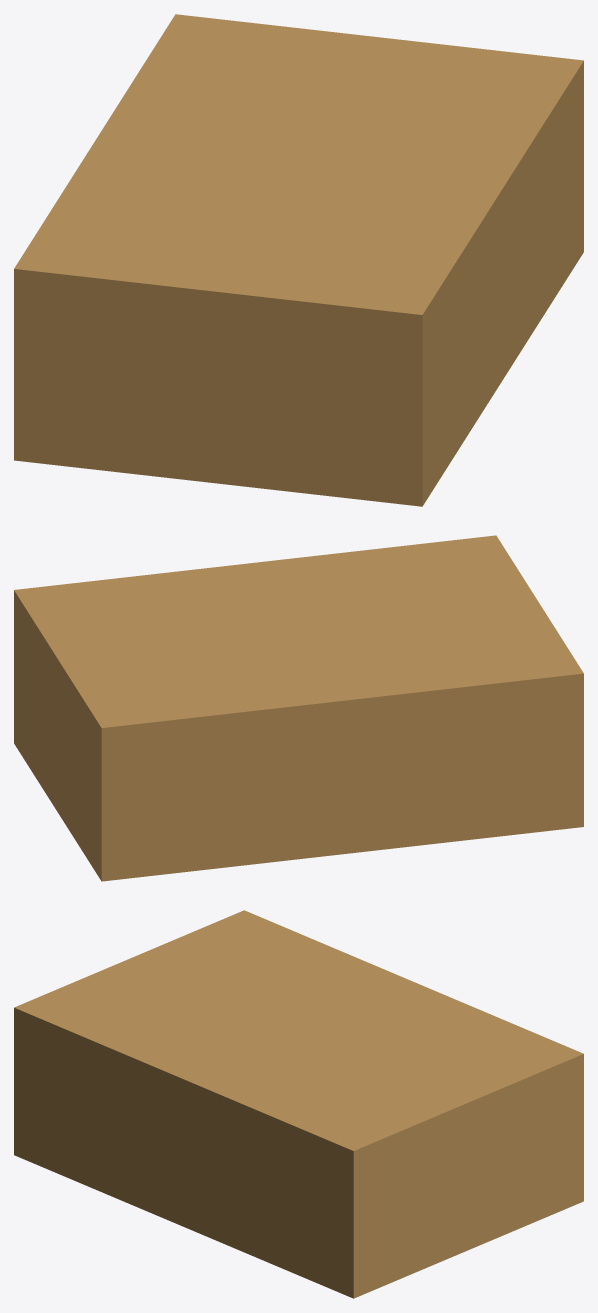
The picture shows the model from 3 angles, top to bottom: view 1: azimuth 30°, elevation 25°; view 2: azimuth 150°, elevation 25°; view 3: azimuth 270°, elevation 25°; orthographic projection. The views are drawn at different scales.
Parts seen in each view (by area): view 1: RUN-019-S01-NOG-00; view 2: RUN-019-S01-NOG-00; view 3: RUN-019-S01-NOG-00.
Boxes of the visible parts, x1,y1,x2,y2 form: RUN-019-S01-NOG-00: (14, 14, 583, 506); RUN-019-S01-NOG-00: (14, 535, 583, 881); RUN-019-S01-NOG-00: (14, 910, 583, 1298).
Bounding box in the file's own units: 0.1575 × 0.045 × 0.1575.
